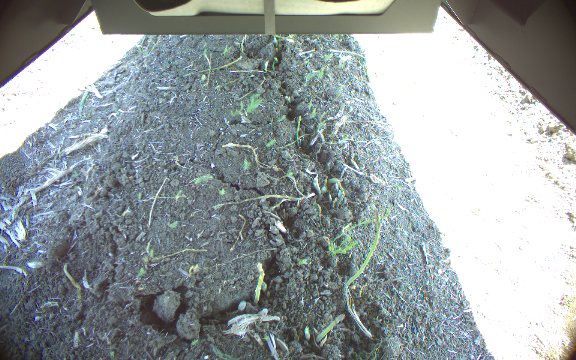aspa: (315, 312, 346, 344), (252, 261, 267, 306), (301, 324, 311, 343)
